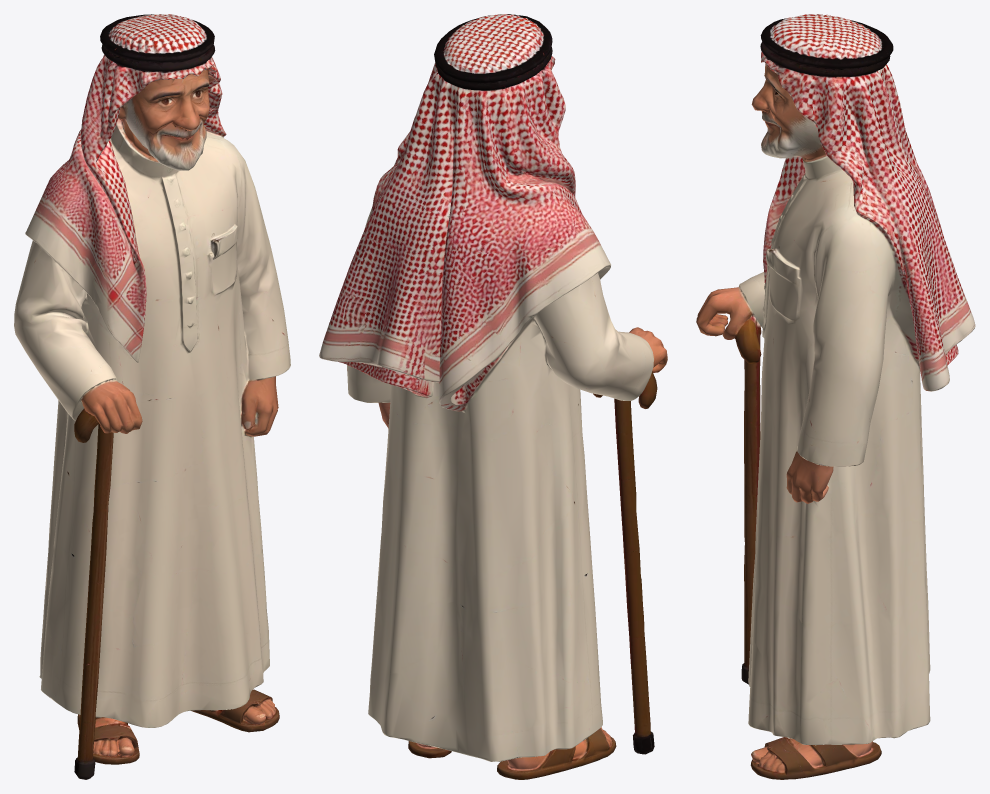
File: walking_wisdom.glb
3 views of the same model, side by side, from view 1: azimuth 30°, elevation 25°; view 2: azimuth 150°, elevation 25°; view 3: azimuth 270°, elevation 25° (orthographic). The views are drawn at different scales.
Size of the model in its own units: 0.7379 by 1.9 by 0.6748.
1 material, 1 textured.
